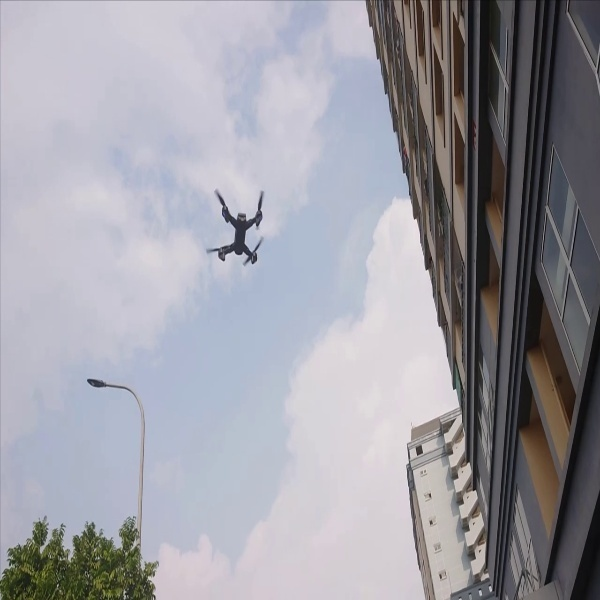drone: (201, 183, 274, 268)
